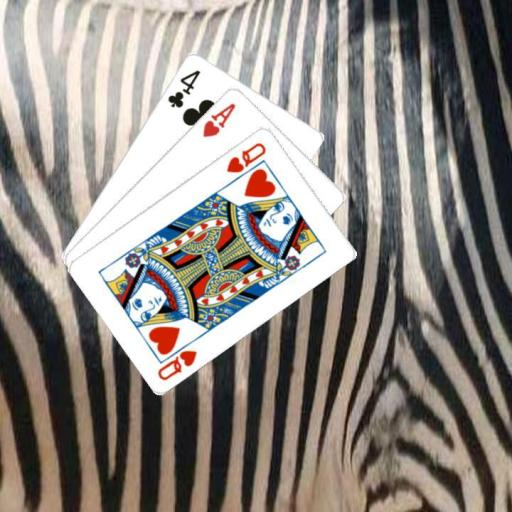4C: (164, 66, 202, 110)
AH: (199, 99, 238, 139)
QH: (154, 335, 199, 382), (223, 139, 268, 174)
